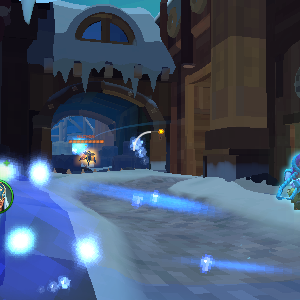model: (79, 149, 96, 166)
